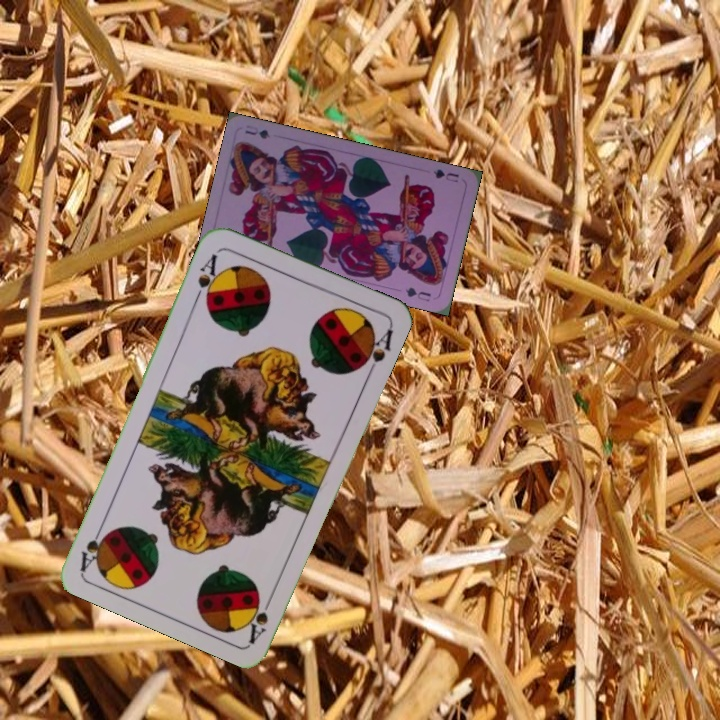GU: (429, 165, 462, 185)
SA: (243, 588, 278, 645), (190, 250, 224, 307)
